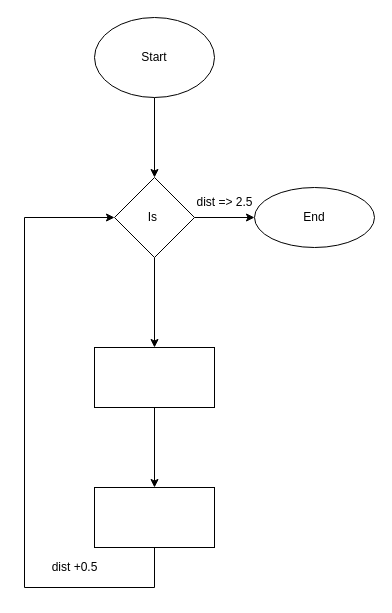
Image size: 392x613. Some labels were removed from this diagram. Here are the shapes that lost their labels. From the top down, the centre of each, then its label:
At point 154,377: "drive(bf.dist)".
At point 154,517: "drive(-bf.dist)".
